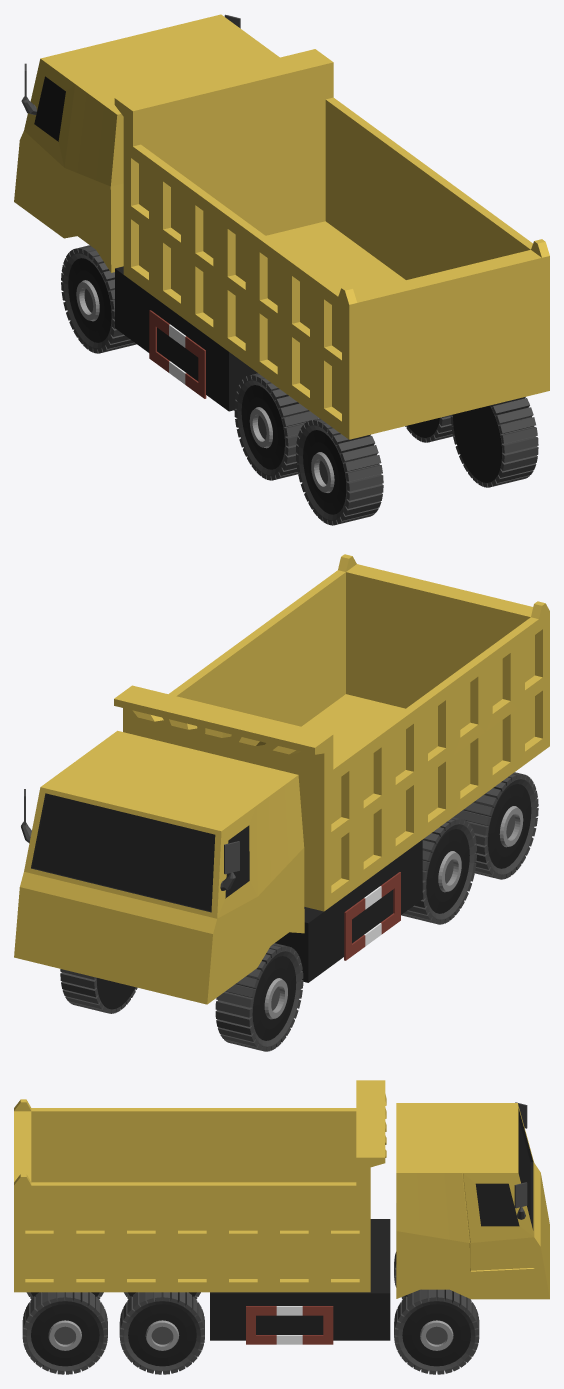
The model's file is dumper-truck.gltf.
3 views of the same model, one above another, from view 1: azimuth 30°, elevation 25°; view 2: azimuth 150°, elevation 25°; view 3: azimuth 270°, elevation 25° (orthographic). The views are drawn at different scales.
Parts seen in each view (by area): view 1: Cube, Cube.004, Cylinder.003, Cube.003, Cylinder, Cylinder.004, Cylinder.005, Cube.001, Cylinder.001; view 2: Cube, Cube.004, Cylinder.005, Cube.003, Cylinder.003, Cylinder.004, Cylinder.002, Cube.001, Cylinder.006; view 3: Cube, Cube.004, Cube.003, Cylinder.002, Cylinder, Cylinder.001, Cube.001, Cylinder.006.
Part boxes in pixels (x1,y1,x2,y2): Cube: (114,49,549,439); Cube.004: (14,14,279,272); Cylinder.003: (296,418,383,525); Cube.003: (115,266,257,411); Cylinder: (450,397,538,487); Cylinder.004: (234,373,319,480); Cylinder.005: (61,245,136,353); Cube.001: (149,310,206,398); Cylinder.001: (405,415,454,442); Cube: (114,554,549,911); Cube.004: (14,730,304,1004); Cylinder.005: (215,943,303,1051); Cube.003: (275,840,422,982); Cylinder.003: (453,772,538,879); Cylinder.004: (401,817,476,924); Cylinder.002: (60,969,137,1013); Cube.001: (344,872,400,960); Cylinder.006: (21,789,239,890); Cube: (14,1080,386,1292); Cube.004: (396,1103,549,1299); Cube.003: (210,1219,390,1340); Cylinder.002: (394,1289,479,1374); Cylinder: (22,1292,107,1374); Cylinder.001: (119,1292,204,1374); Cube.001: (246,1306,333,1344); Cylinder.006: (514,1102,527,1219).
Size of the model in its own units: 3.06 by 3.76 by 8.32.
